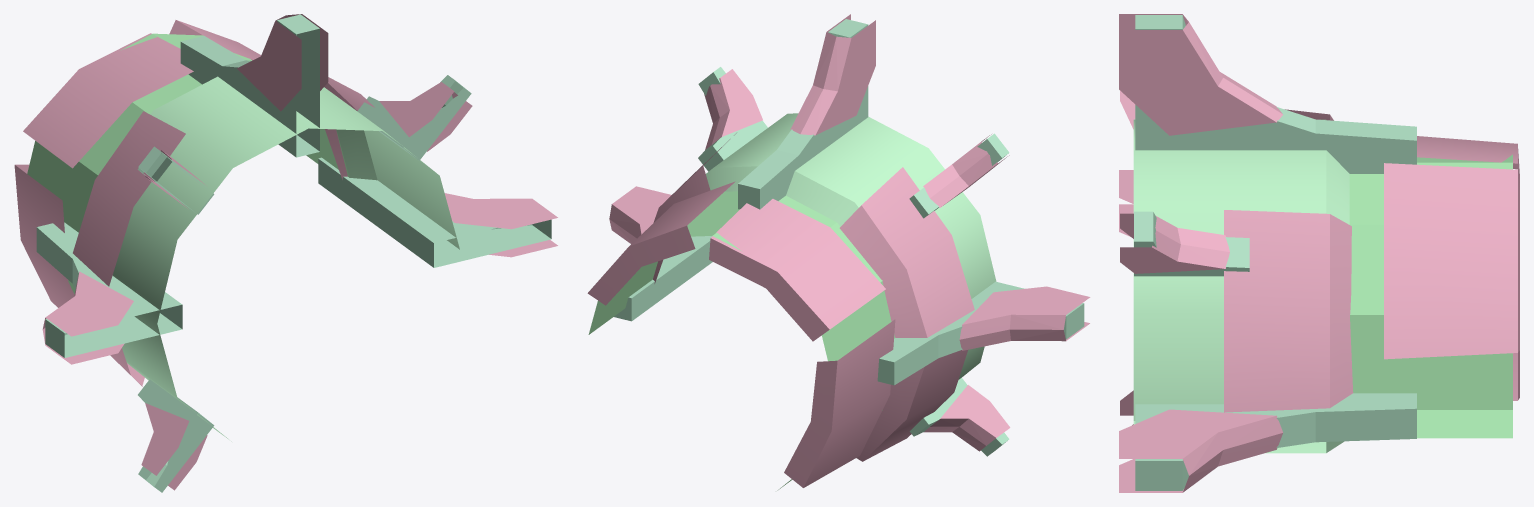
The picture shows the model from 3 angles, left to right: view 1: azimuth 30°, elevation 25°; view 2: azimuth 150°, elevation 25°; view 3: azimuth 270°, elevation 25°; orthographic projection. The views are drawn at different scales.
Parts seen in each view (by area): view 1: Object10; view 2: Object10; view 3: Object10.
Boxes of the visible parts, bbox=[...] form: Object10: bbox=[14, 14, 557, 492]; Object10: bbox=[587, 14, 1090, 490]; Object10: bbox=[1119, 14, 1519, 492].
Size of the model in its own units: 74333 by 62012 by 43605.
